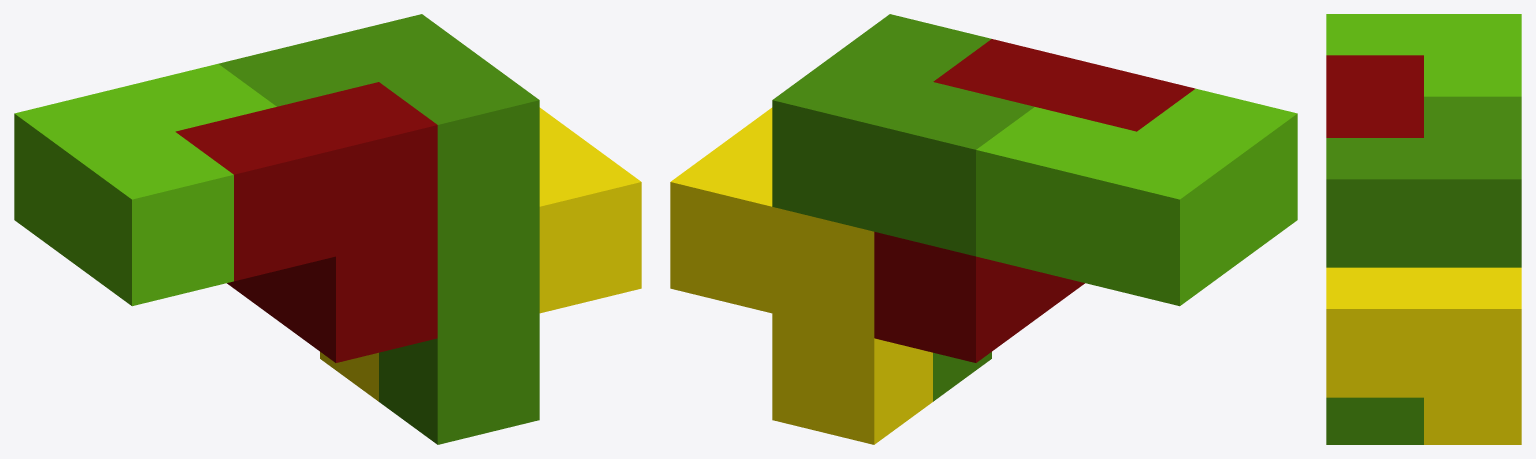
The picture shows the model from 3 angles, left to right: view 1: azimuth 30°, elevation 25°; view 2: azimuth 150°, elevation 25°; view 3: azimuth 270°, elevation 25°; orthographic projection. The views are drawn at different scales.
Parts seen in each view (by area): view 1: mergedBlocks(Clone); view 2: mergedBlocks(Clone); view 3: mergedBlocks(Clone).
Boxes of the visible parts, <box> form: mergedBlocks(Clone): <box>14,14,641,444</box>; mergedBlocks(Clone): <box>670,14,1297,444</box>; mergedBlocks(Clone): <box>1326,14,1521,444</box>.
Size of the model in its own units: 5 by 3 by 2.
4 materials, 4 textured.
